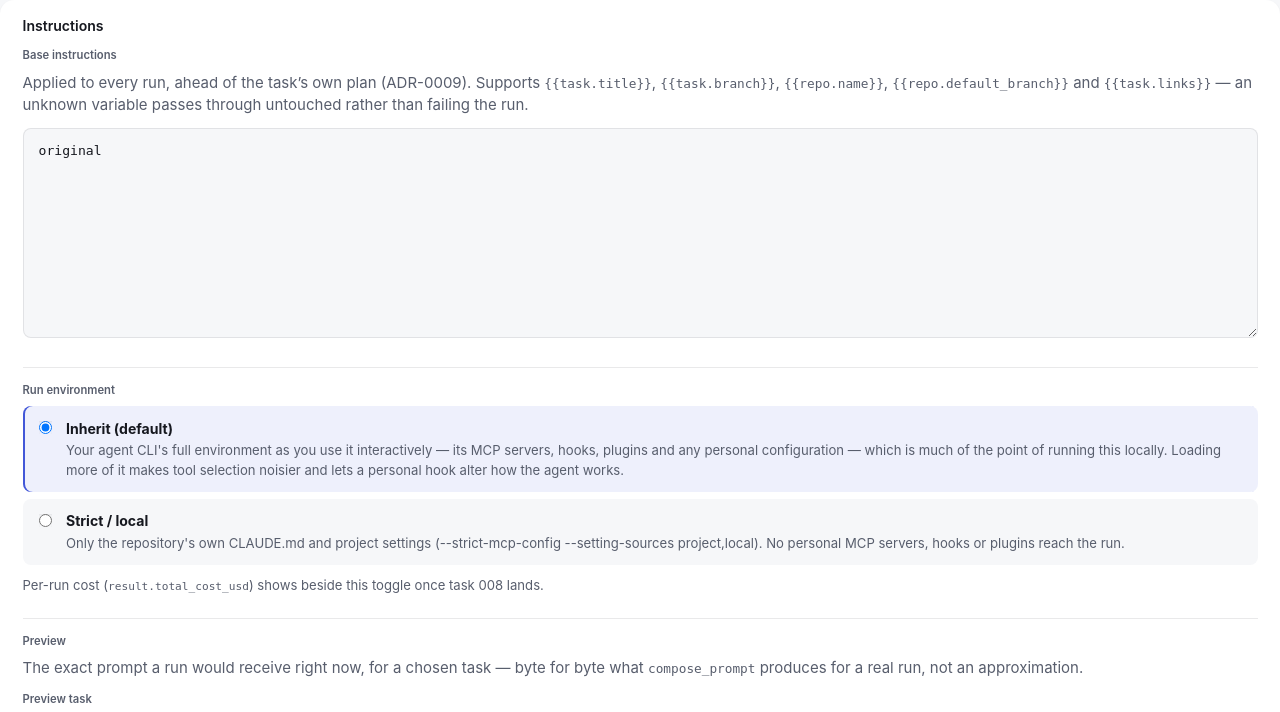
InstructionsSection › shows the error banner when set_base_instructions rejects
Replace the text in the text box named "Base instructions" with "edited" at (640, 233), box x1=22 y1=128 x2=1258 y2=338
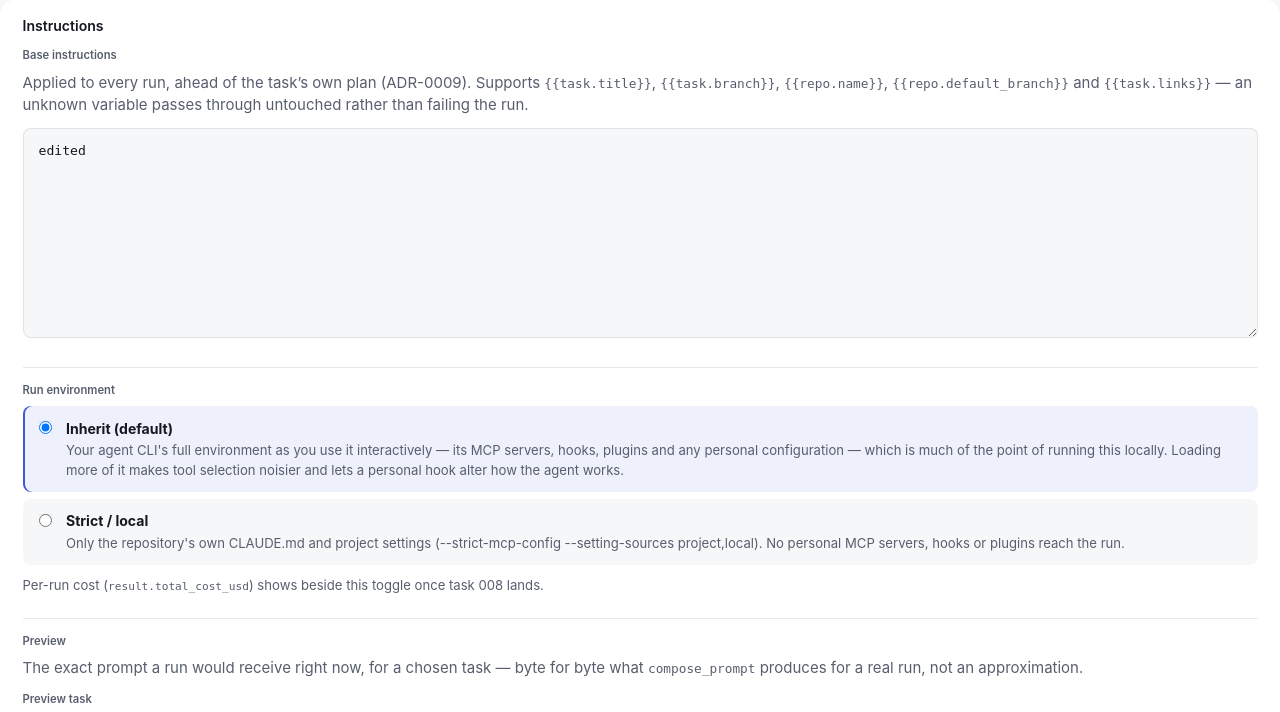
Leave the text box named "Base instructions", box x1=22 y1=128 x2=1258 y2=338
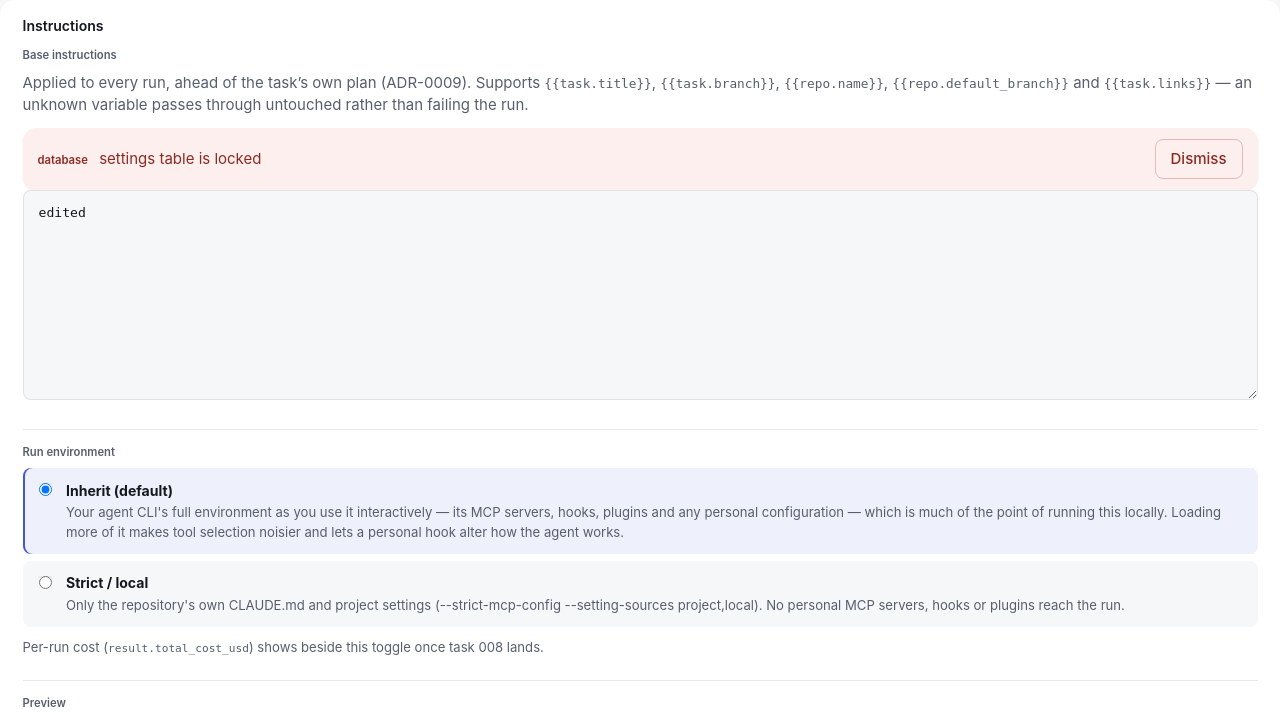
expect the text "settings table is locked" is shown: met, box x1=99 y1=149 x2=261 y2=168
